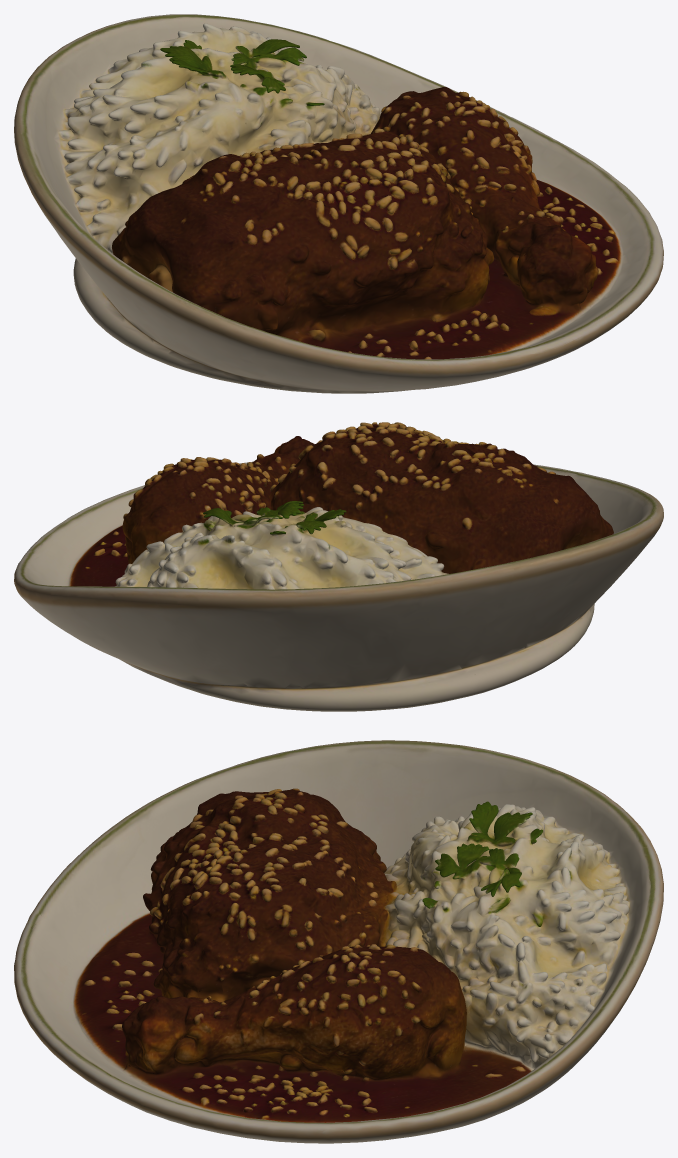
File: mole-poblano.glb
3 renders of one model, top to bottom at view 1: azimuth 30°, elevation 25°; view 2: azimuth 150°, elevation 25°; view 3: azimuth 270°, elevation 25°, orthographic. The views are drawn at different scales.
Visible parts, largest first — view 1: tripo_node_4970f8b4-2bb3-4ab0-badb-d270c11bfaf7; view 2: tripo_node_4970f8b4-2bb3-4ab0-badb-d270c11bfaf7; view 3: tripo_node_4970f8b4-2bb3-4ab0-badb-d270c11bfaf7.
Part boxes in pixels (x1,y1,x2,y2): tripo_node_4970f8b4-2bb3-4ab0-badb-d270c11bfaf7: (14,14,663,393); tripo_node_4970f8b4-2bb3-4ab0-badb-d270c11bfaf7: (14,422,663,711); tripo_node_4970f8b4-2bb3-4ab0-badb-d270c11bfaf7: (14,740,663,1143).
Bounding box in the file's own units: 0.2991 × 0.0921 × 0.3.
1 material, 1 textured.
